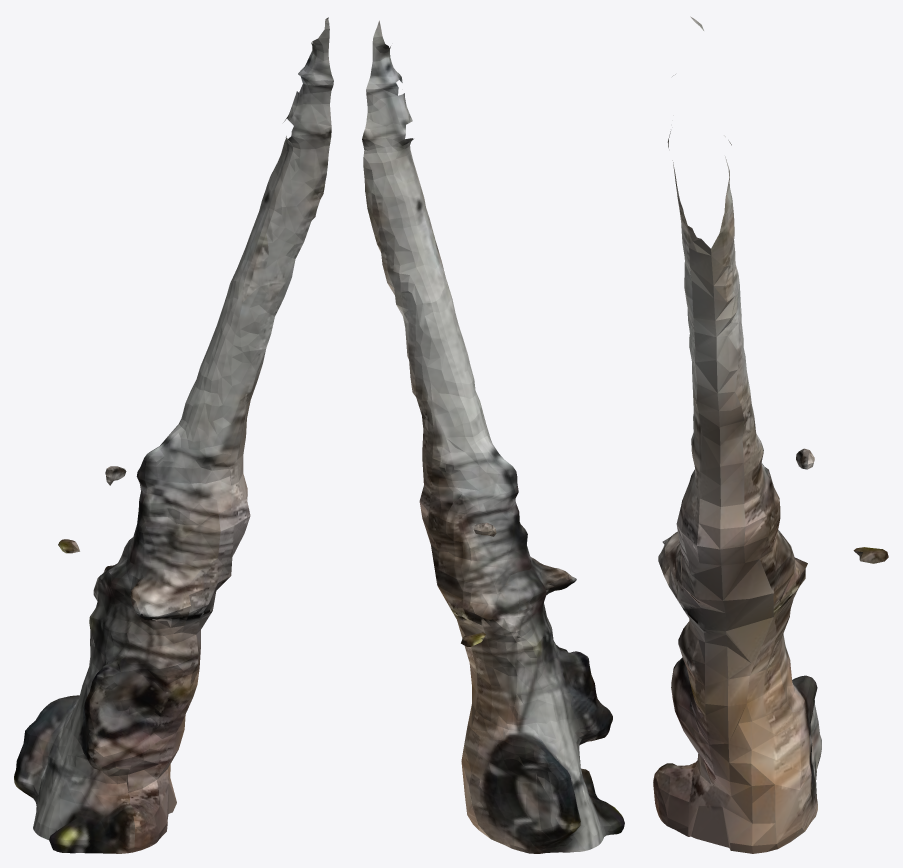
3 views of the same model, side by side, from view 1: azimuth 30°, elevation 25°; view 2: azimuth 150°, elevation 25°; view 3: azimuth 270°, elevation 25° (orthographic). The views are drawn at different scales.
Size of the model in its own units: 0.8377 by 2.37 by 0.5541.
1 material, 1 textured.
